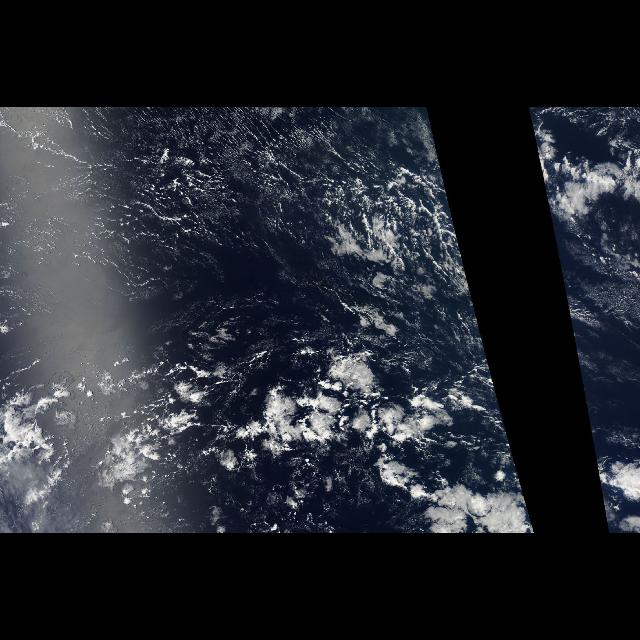Flower: (21, 347, 536, 533)
Sugar: (3, 110, 477, 322)
